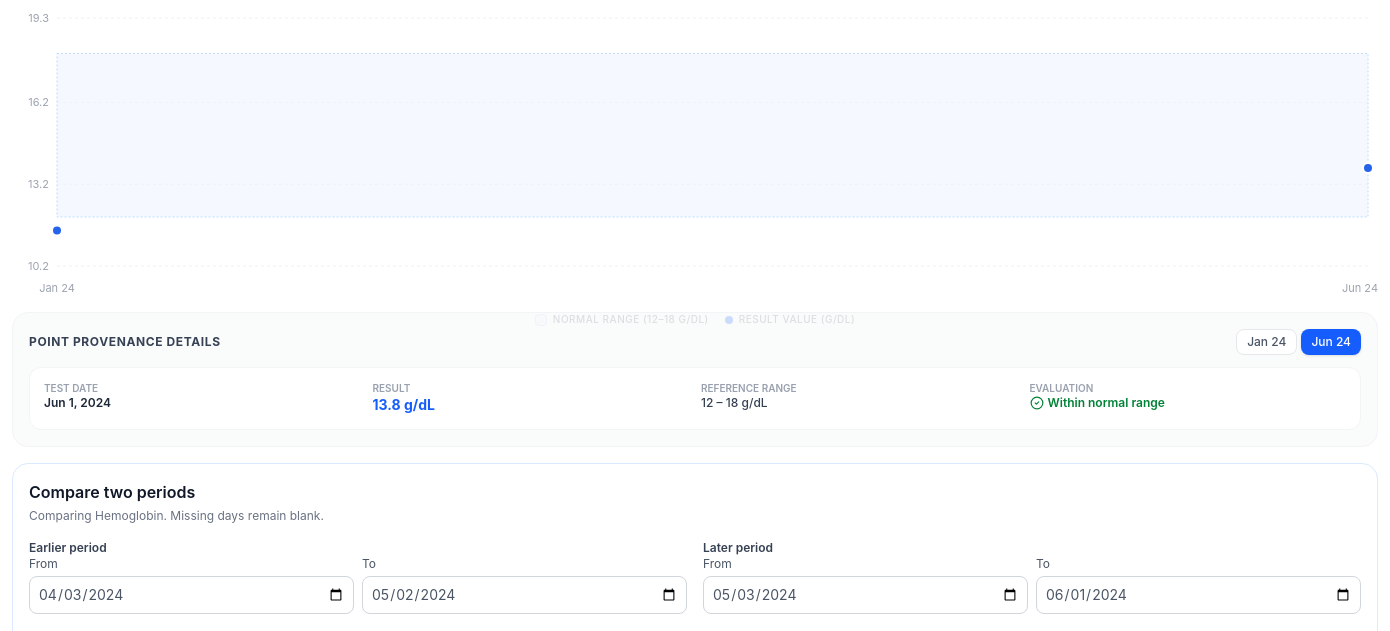
Scenario: TrendsChart Component › Reference-Range Provenance and Labeling › allows interactive point selection via keyboard and updates provenance card
// Select first point
Click the button with aria-label "View result for".
click(1267, 342)  # box [1236,329,1297,355]
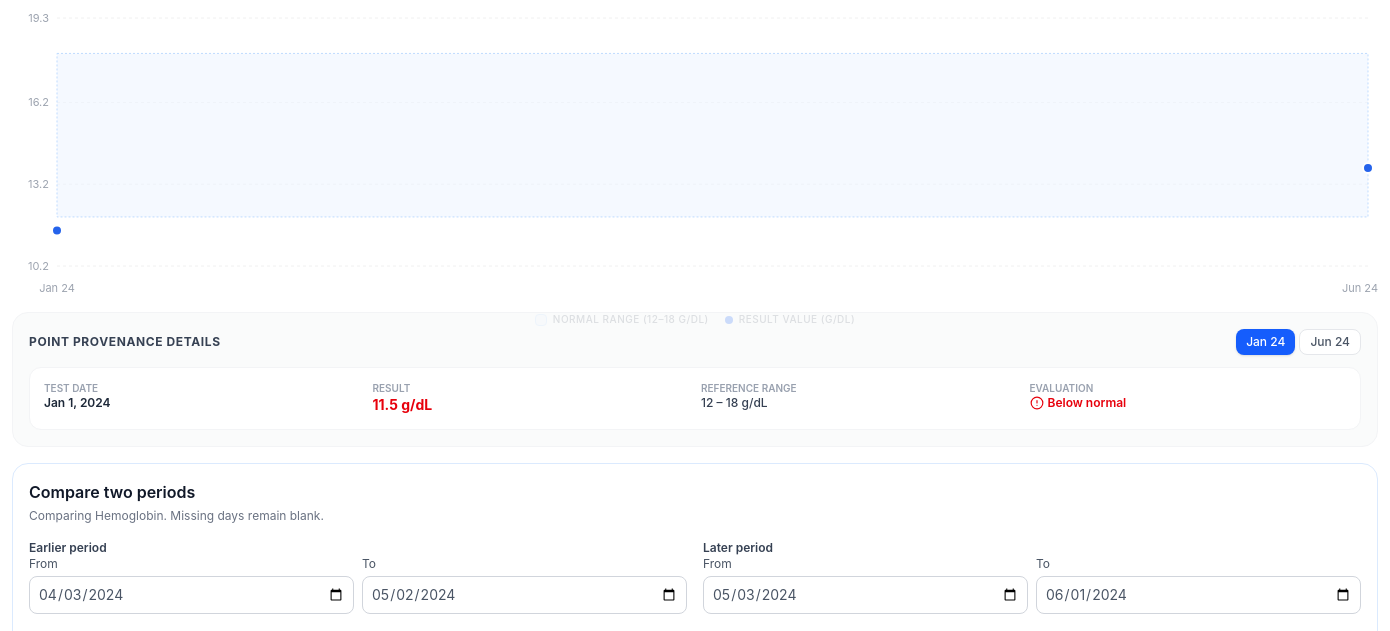
Check: the text "11.5 g/dL" is shown, box [372,396,432,413]
Check: the text "Below normal" is shown, box [1030,395,1126,411]
// Select second point
Click the button with aria-label "View result for".
click(1330, 342)  # box [1299,329,1361,355]
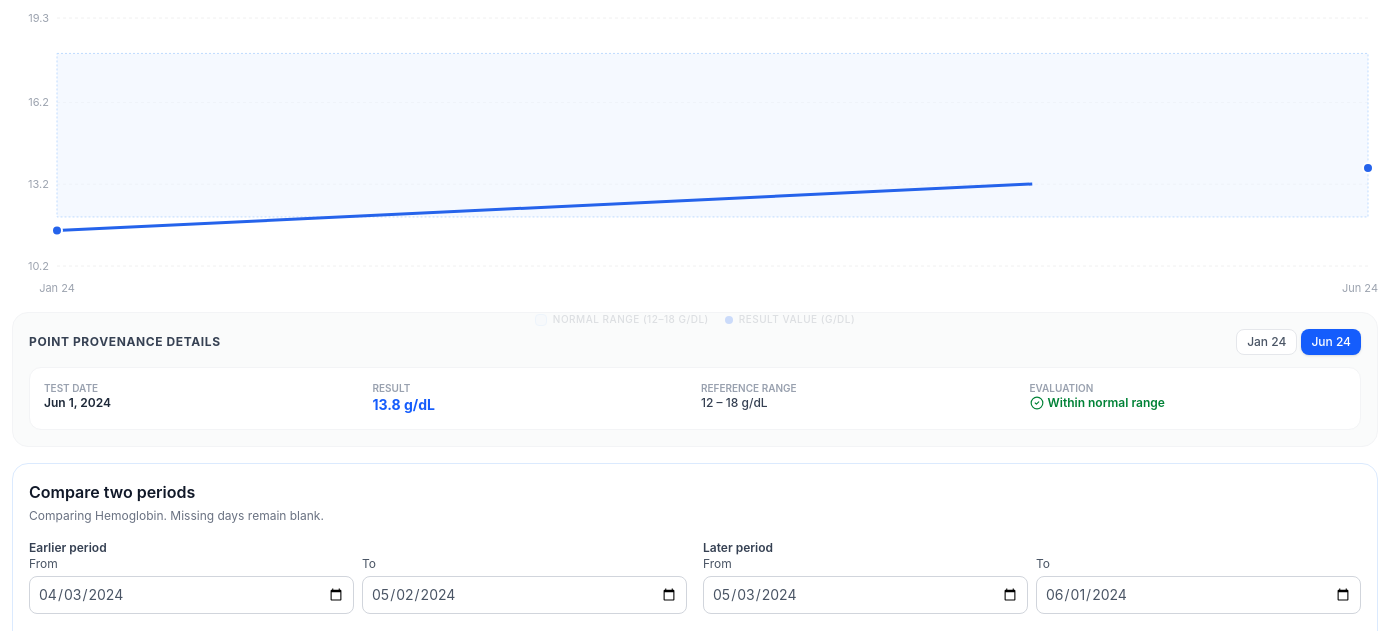
Check: the text "13.8 g/dL" is shown, box [372,396,435,413]
Check: the text "Within normal range" is shown, box [1030,395,1165,411]
